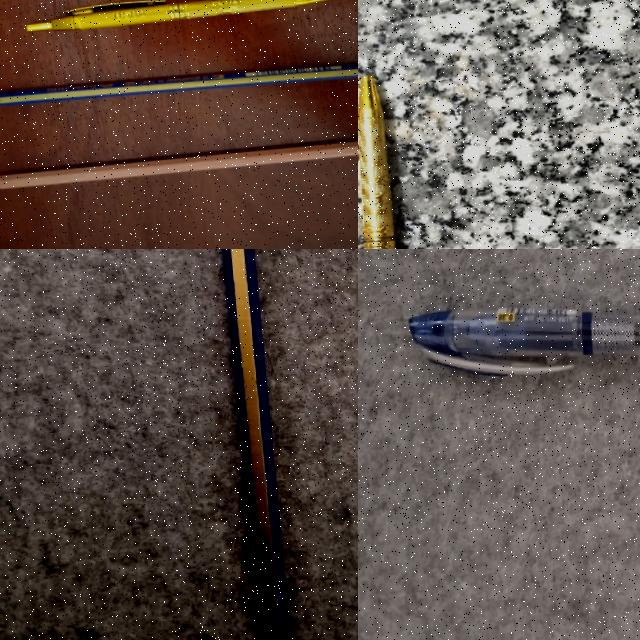pen: (410, 308, 639, 374)
pencil: (223, 249, 291, 639), (0, 137, 358, 186), (16, 59, 358, 102)
signature pen: (30, 0, 337, 32), (358, 75, 395, 248)
